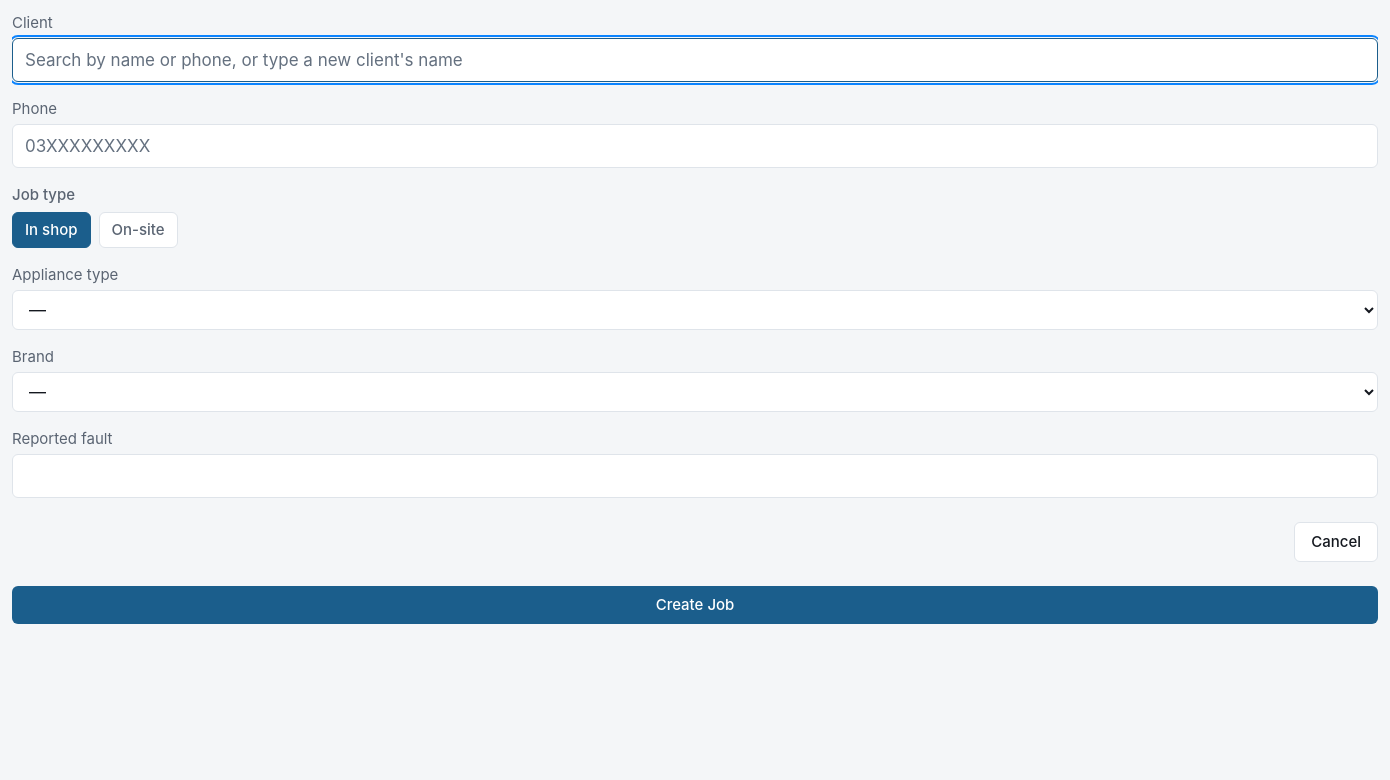
Test: JobCreateForm (P14-2) › blocks submission and shows an error when the phone field has 10 digits, not 11
The width and height of the screenshot is (1390, 780).
Type "Test Customer" into the field labelled "Client".
click(695, 60); type("Test Customer")  # box [12,38,1378,82]
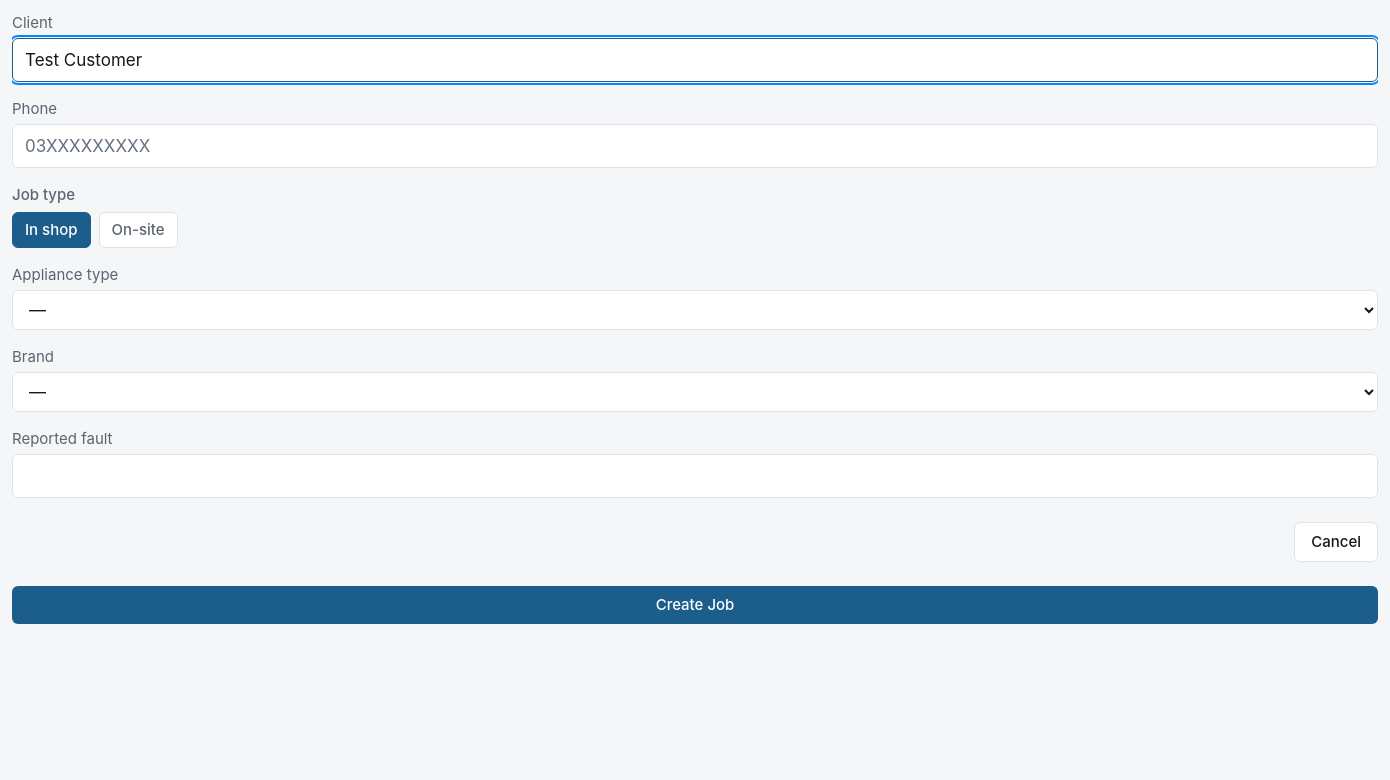
Select "Gree" in the dropdown labelled "Brand" at (695, 392), box [12,372,1378,412]
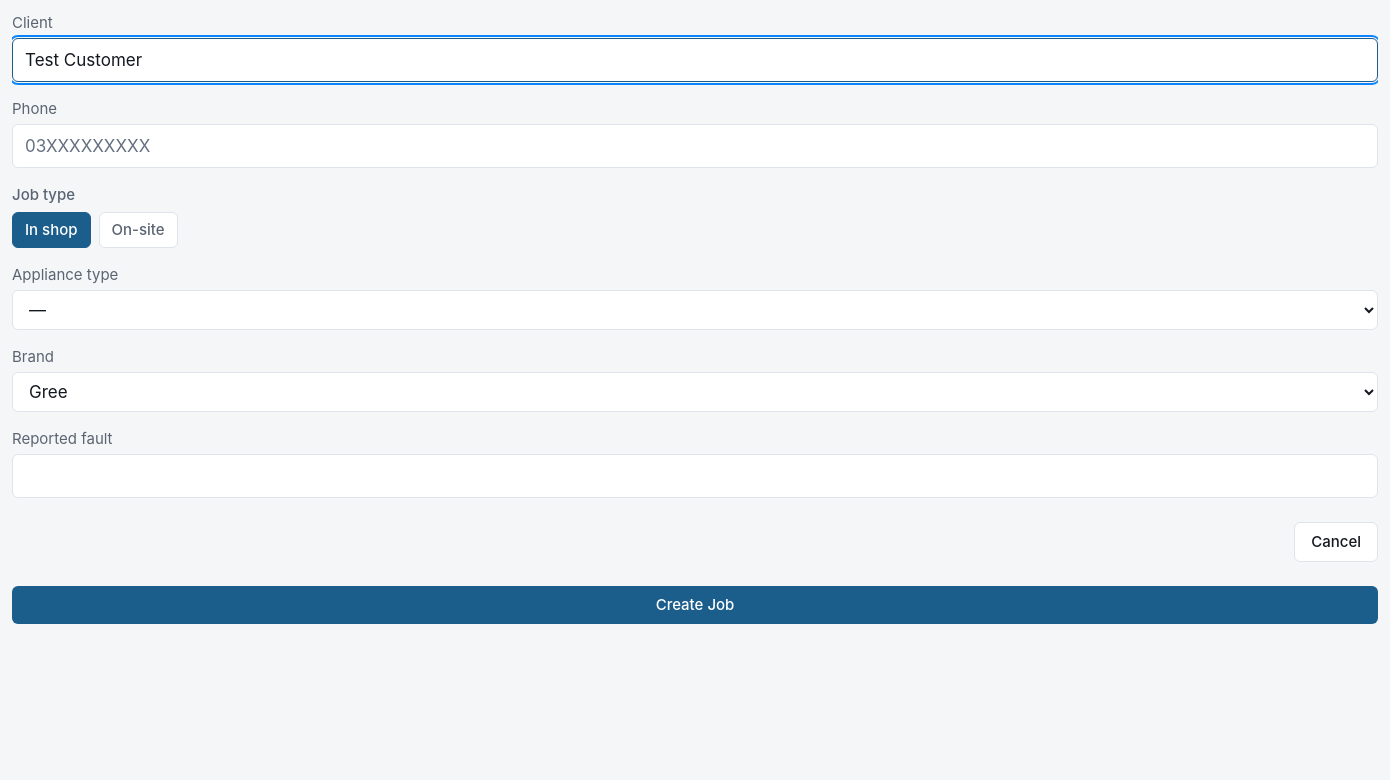
Type "Not cooling" into the field labelled "Reported fault".
click(695, 476); type("Not cooling")  # box [12,454,1378,498]
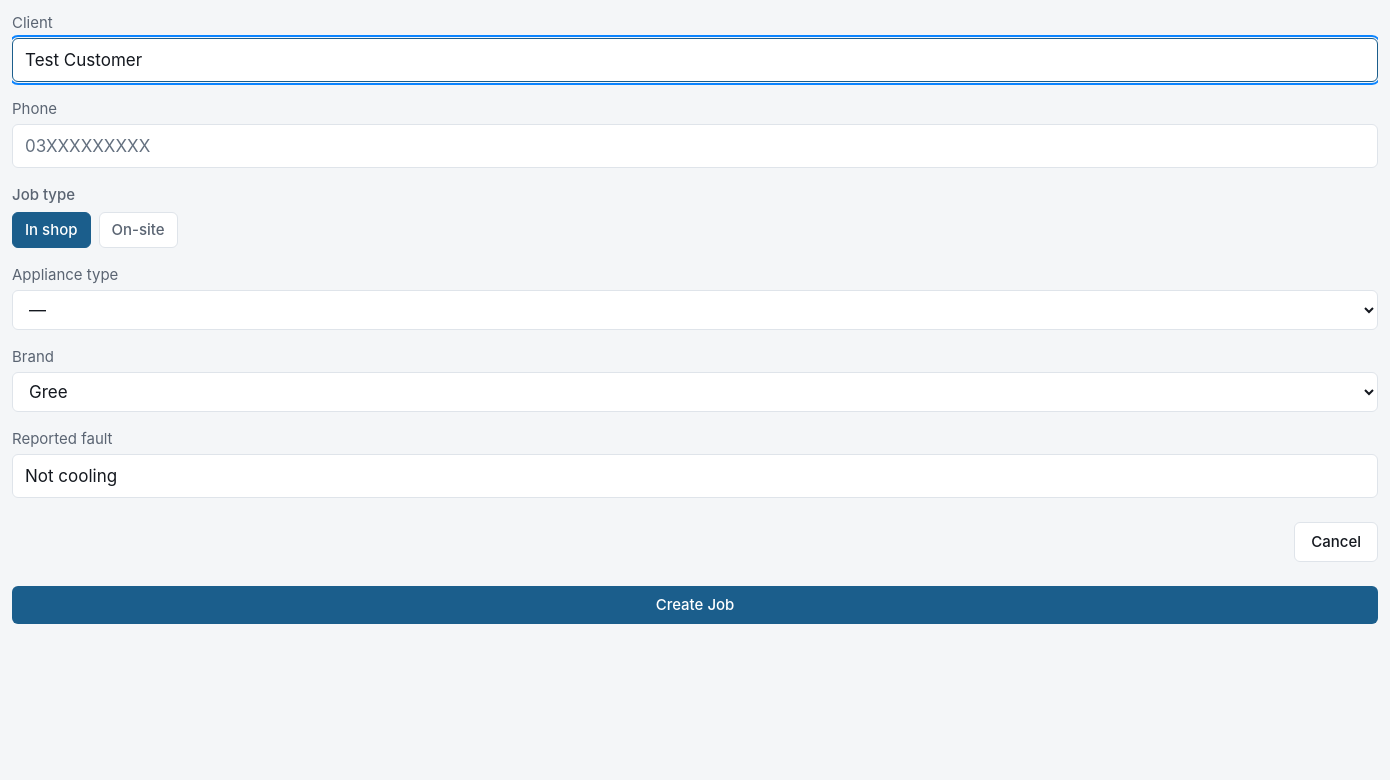
Type "0300123456" into the field labelled "Phone".
click(695, 146); type("0300123456")  # box [12,124,1378,168]
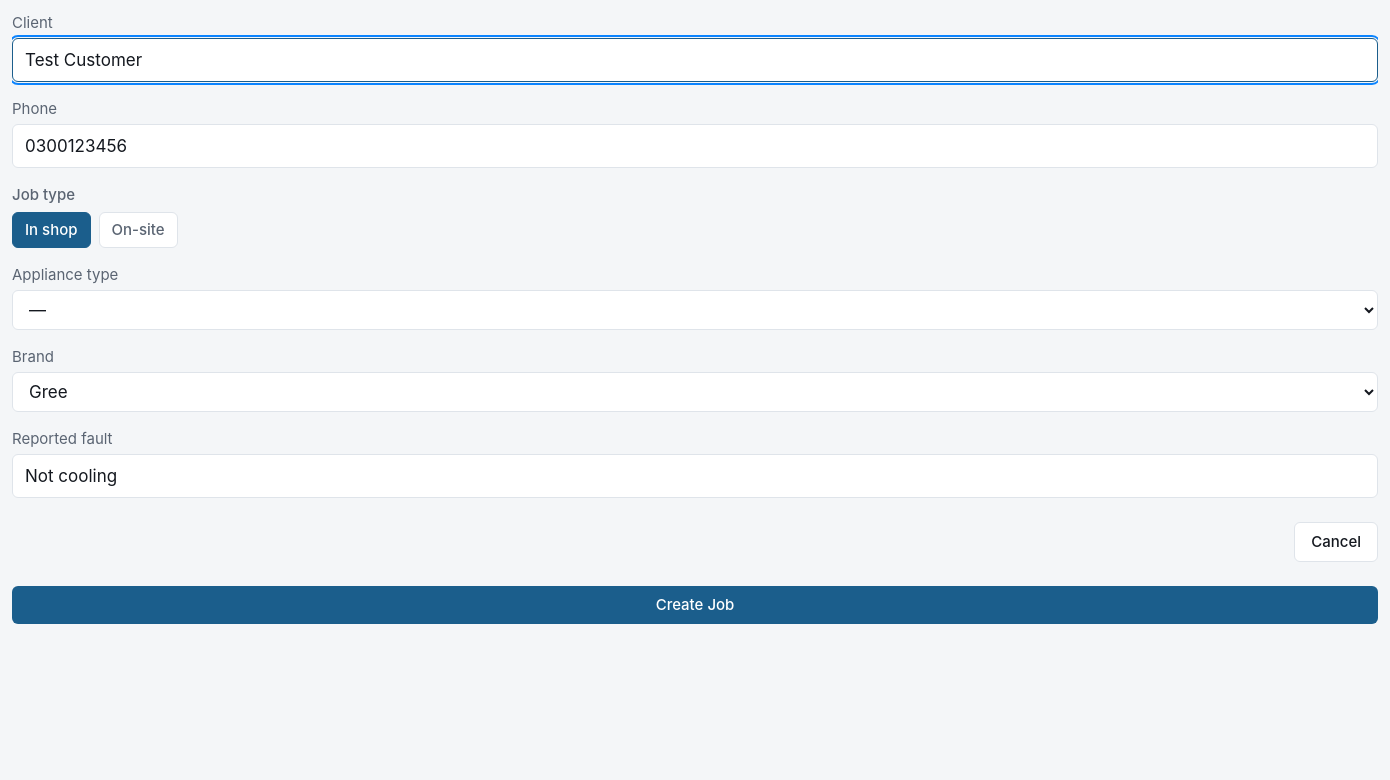
Click the button "Create Job".
click(695, 605)  # box [12,586,1378,624]
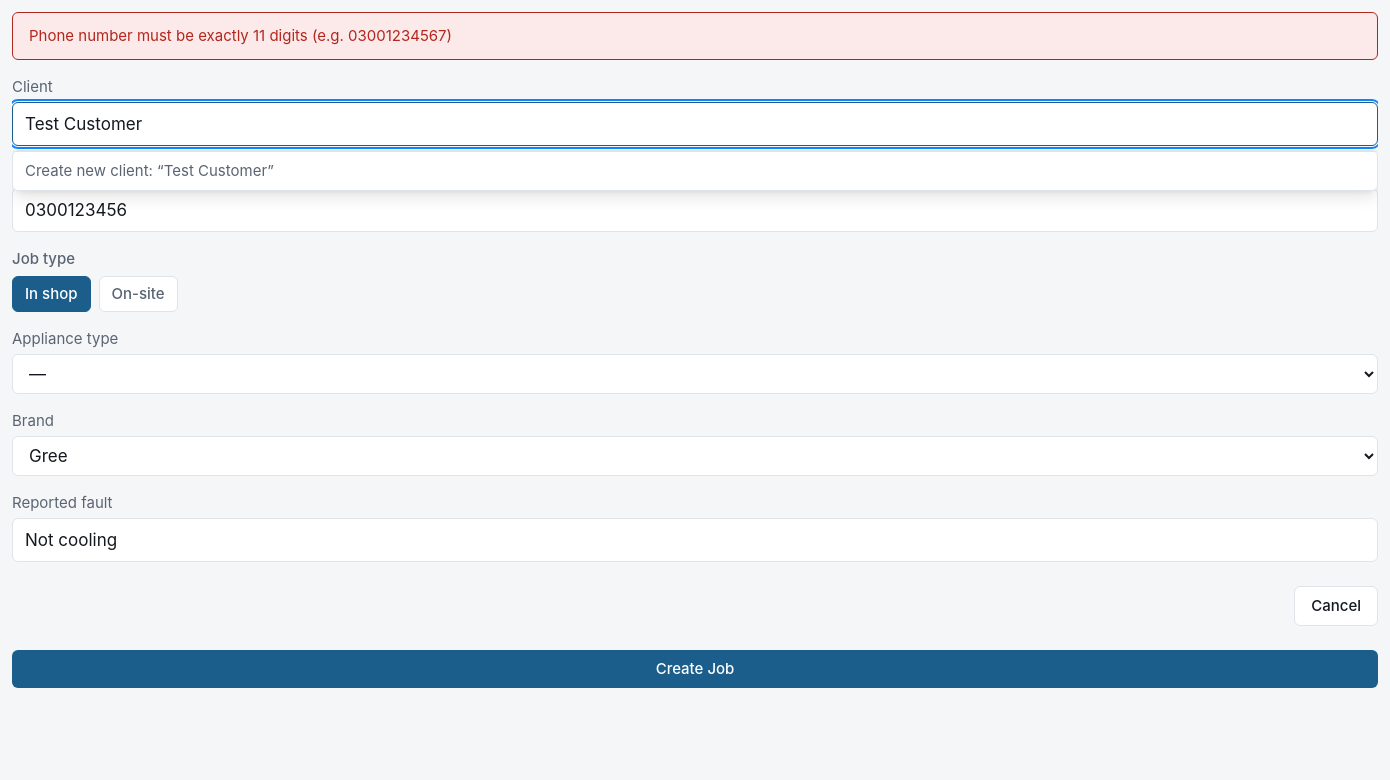
Expected: the text "Phone number must be exactly 11 digits (e.g. 03001234567)" is shown, [29,25,452,47]
